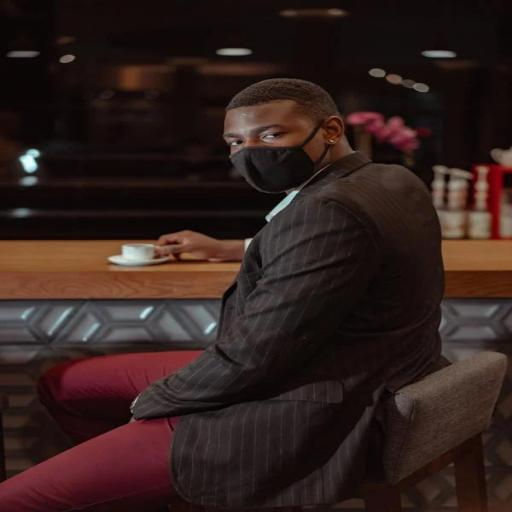mask: (200, 74, 354, 198)
